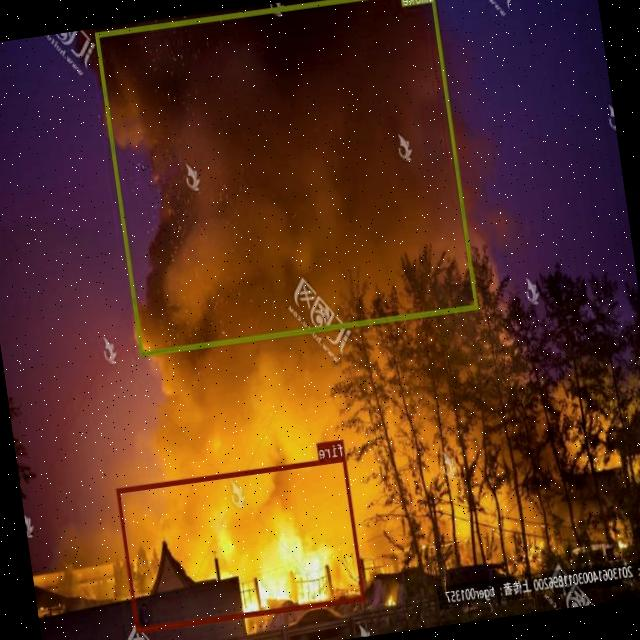fire: (117, 456, 366, 632)
smoke: (96, 0, 479, 355)
